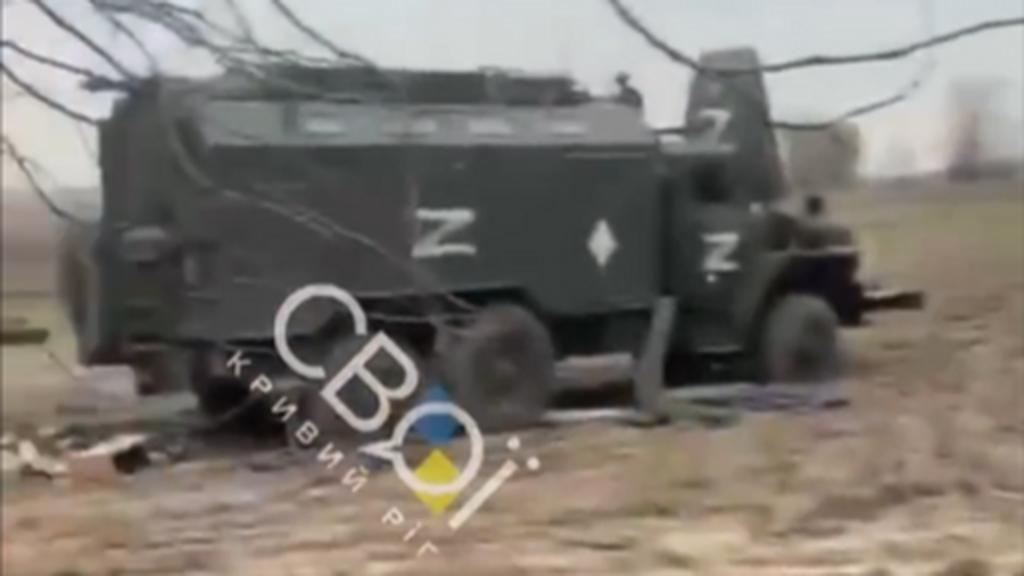TRUCK: (46, 46, 916, 428)
